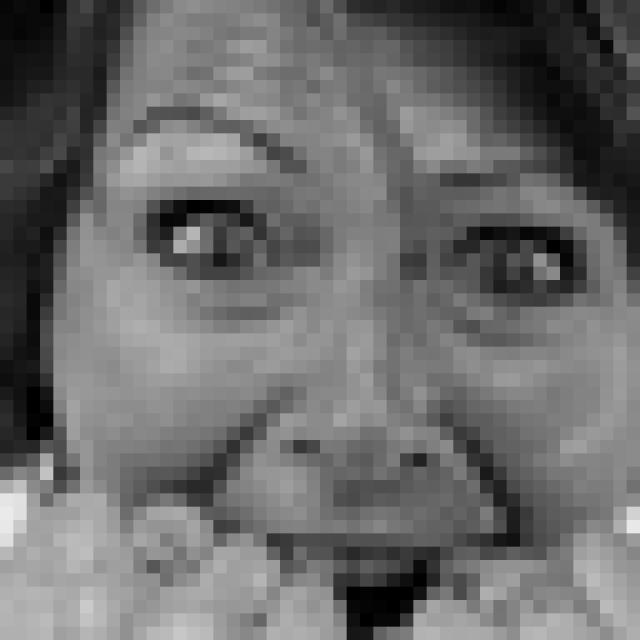fear: (112, 98, 603, 640)
